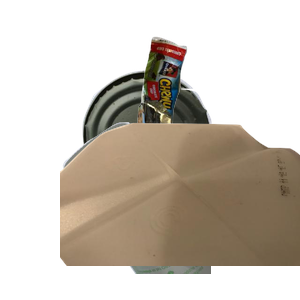glass: (60, 120, 300, 300)
metal: (80, 68, 284, 248)
plastic: (60, 120, 300, 300)
trash: (130, 34, 300, 203)
